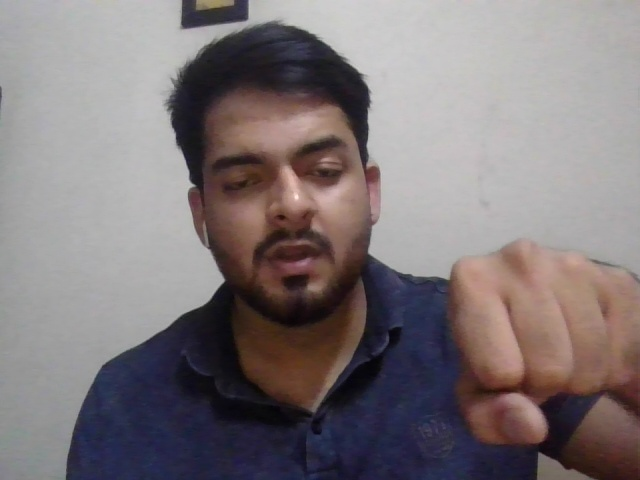yes: (448, 229, 640, 446)
